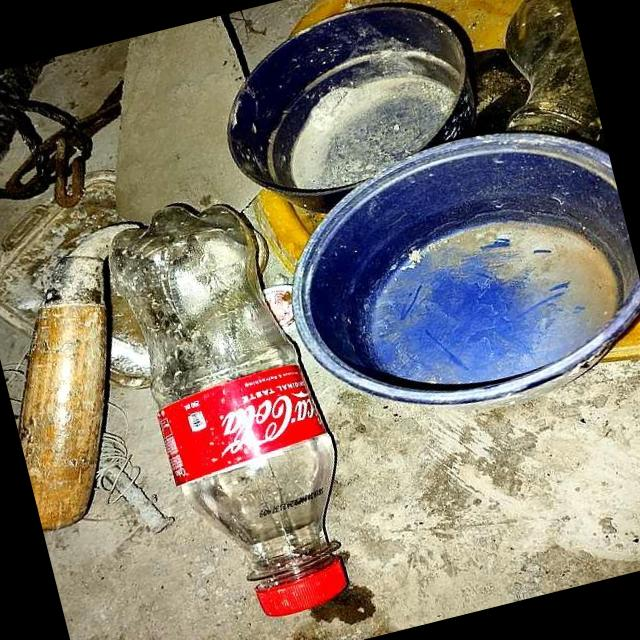Non-biodegradable: (100, 181, 372, 638)
